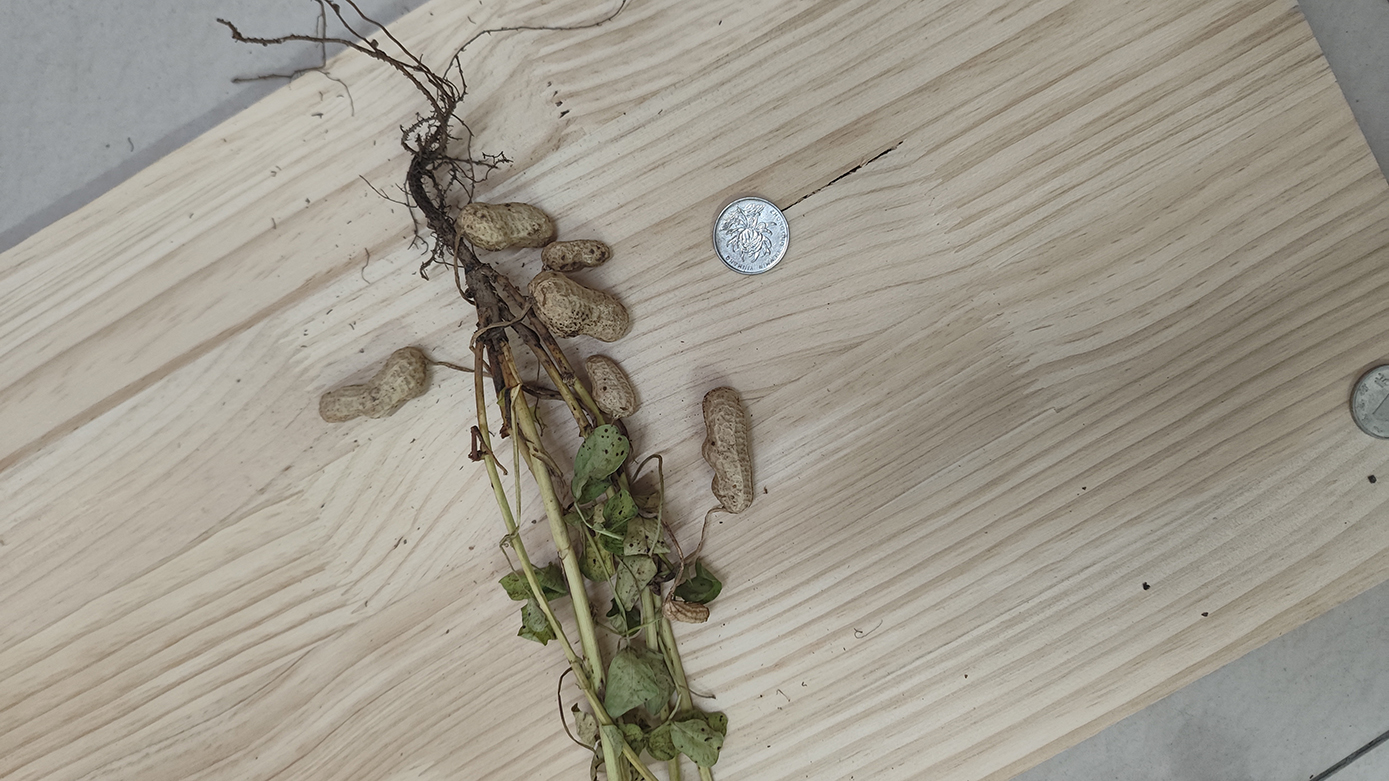h: (318, 346, 428, 422), (527, 272, 629, 342), (701, 385, 755, 515), (457, 202, 555, 250), (582, 354, 635, 417), (539, 241, 613, 275)
l: (663, 602, 711, 622)
